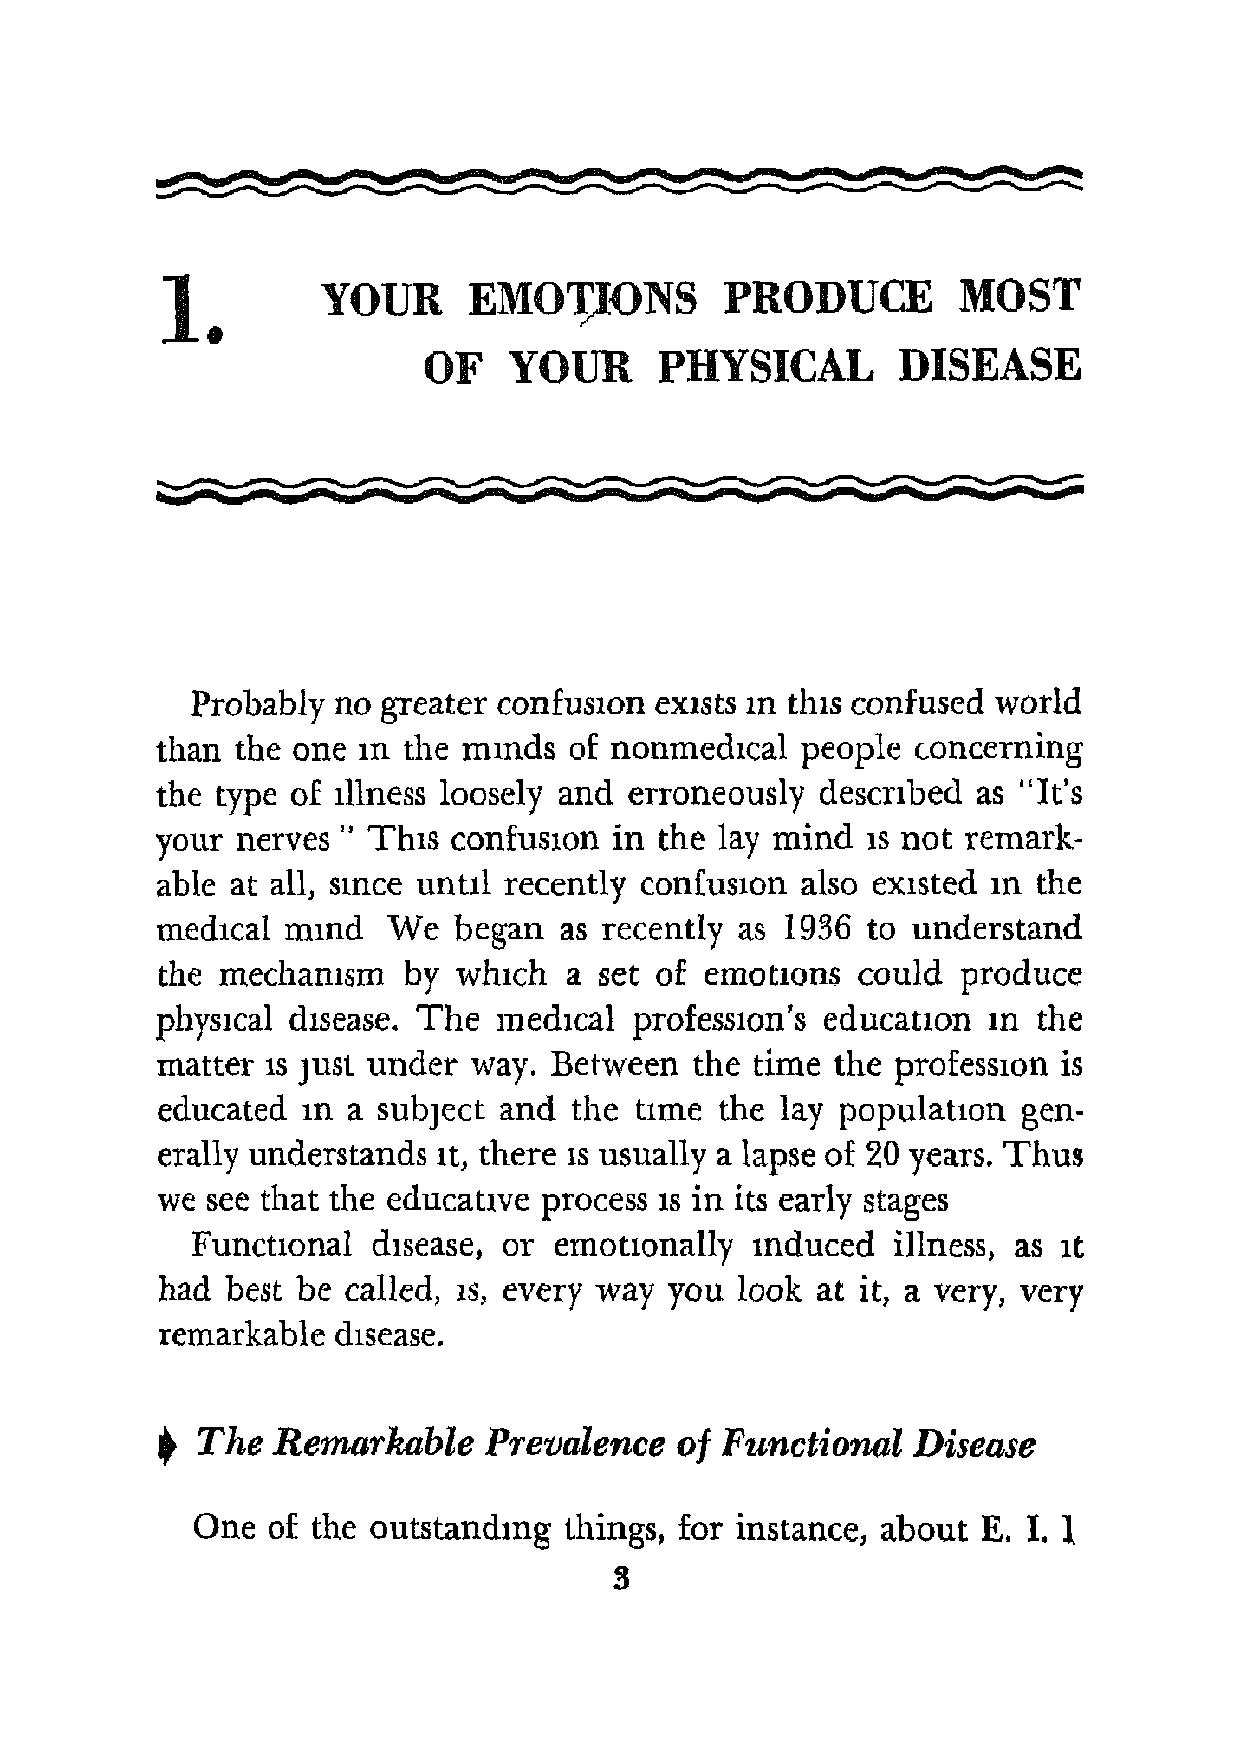chapter: (154, 271, 1083, 385)
content: (152, 684, 1088, 1553)
content_pagenumber: (609, 1562, 632, 1596)
